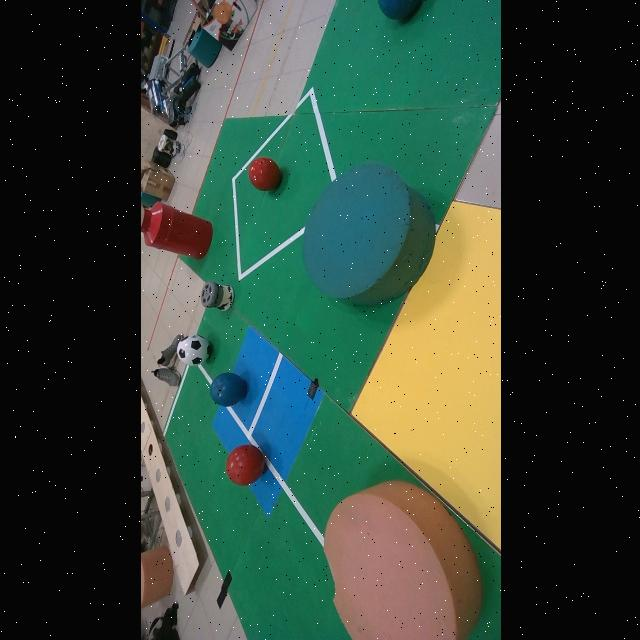B: (210, 373, 245, 407)
R: (225, 444, 263, 485), (248, 157, 280, 191)
